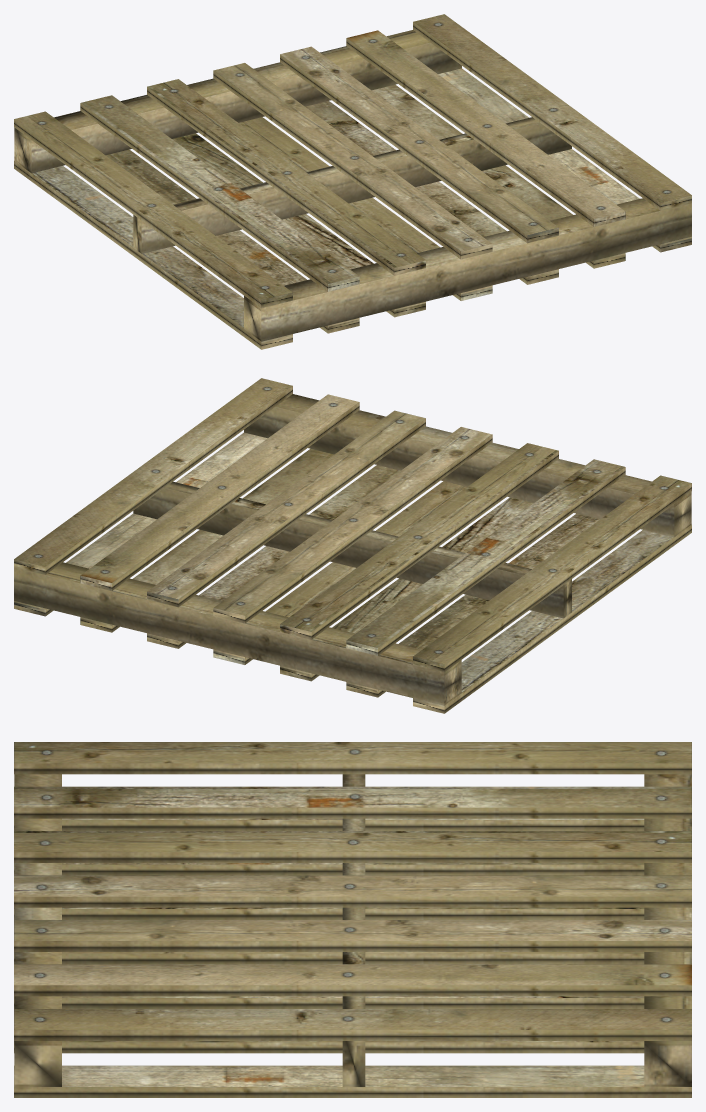
The model's file is WoodPaletteS1.fbx.
The picture shows the model from 3 angles, top to bottom: view 1: azimuth 30°, elevation 25°; view 2: azimuth 150°, elevation 25°; view 3: azimuth 270°, elevation 25°; orthographic projection. The views are drawn at different scales.
Parts seen in each view (by area): view 1: WoodPalleS1; view 2: WoodPalleS1; view 3: WoodPalleS1.
Part boxes in pixels (x1,y1,x2,y2): WoodPalleS1: [14, 14, 691, 349]; WoodPalleS1: [14, 378, 691, 713]; WoodPalleS1: [14, 742, 691, 1097].
Bounding box in the file's own units: 150 × 16.53 × 150.
